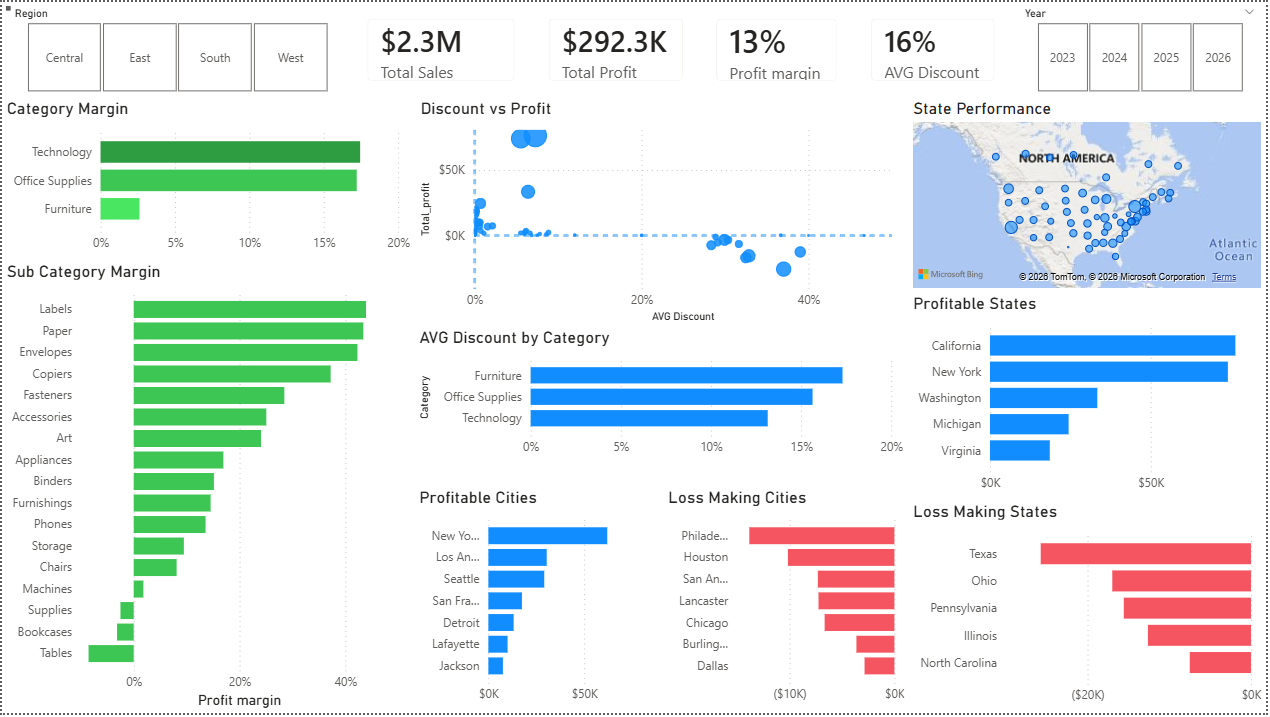

The dashboard page shown, as its layout file describes it:
{"tool":"powerbi","page":{"name":"Regional Analysis","canvas":[1280,720],"ordinal":1},"visuals":[{"type":"slicer","fields":{"Values":["sample_-_superstore.Region"]},"box":[0,0,353.5,97.2],"z":0},{"type":"slicer","fields":{"Values":["sample_-_superstore.Year"]},"box":[1022.3,0,258,97.4],"z":1000},{"type":"barChart","title":"Category Margin","fields":{"Category":["sample_-_superstore.Category"],"Y":["_Measures.Profit margin"]},"box":[0,97.2,418.3,164.8],"z":2000},{"type":"barChart","title":"Sub Category Margin","fields":{"Y":["_Measures.Profit margin"],"Category":["sample_-_superstore.Sub-Category"]},"box":[0,262.1,418.5,458.3],"z":3000},{"type":"cardVisual","fields":{"Data":["_Measures.Total_sales"]},"box":[353.5,0,183.1,97.2],"z":4000},{"type":"cardVisual","fields":{"Data":["_Measures.Total_profit"]},"box":[536.6,0,170.4,97.2],"z":5000},{"type":"map","title":"State Performance","fields":{"Category":["sample_-_superstore.State/Province"],"Size":["_Measures.Total_profit"]},"box":[918,97.4,362.3,197.6],"z":6000},{"type":"actionButton","box":[0,0,100,40],"z":7000},{"type":"cardVisual","fields":{"Data":["_Measures.Profit margin"]},"box":[706.7,0,156.4,97.4],"z":8000},{"type":"barChart","title":"Profitable States","fields":{"Category":["sample_-_superstore.State/Province"],"Y":["_Measures.Total_profit"]},"box":[918,295,362.3,210],"z":9000},{"type":"barChart","title":"Loss Making States","fields":{"Category":["sample_-_superstore.State/Province"],"Y":["_Measures.Total_profit"]},"box":[918,505,362.3,215.4],"z":10000},{"type":"scatterChart","title":"Discount vs Profit","fields":{"X":["_Measures.AVG Discount"],"Size":["_Measures.Total_sales"],"Category":["sample_-_superstore.State/Province"],"Y":["_Measures.Total_profit"]},"box":[418.5,97.4,499.5,231.9],"z":11000},{"type":"cardVisual","fields":{"Data":["_Measures.AVG Discount"]},"box":[863.1,0,159.2,97.4],"z":12000},{"type":"barChart","fields":{"Category":["sample_-_superstore.Category"],"Y":["_Measures.AVG Discount"]},"box":[418.3,329.6,500,139.4],"z":13000},{"type":"barChart","title":"Loss Making Cities","fields":{"Y":["_Measures.Total_profit"],"Category":["sample_-_superstore.City"]},"box":[669,491.5,249.3,228.2],"z":14000},{"type":"barChart","title":"Profitable Cities","fields":{"Y":["_Measures.Total_profit"],"Category":["sample_-_superstore.City"]},"box":[418.3,491.5,249.3,228.2],"z":15000}]}

Visuals, with their boxes in screenshot pixels (x1, y1, x2, y2), scaled from the page's 1280x720 canvas onto the 1270x717 screenshot:
slicer - sample_-_superstore.Region: detection(0, 0, 351, 97)
slicer - sample_-_superstore.Year: detection(1014, 0, 1269, 97)
"Category Margin" barChart: detection(0, 97, 415, 261)
"Sub Category Margin" barChart: detection(0, 261, 415, 716)
cardVisual - _Measures.Total_sales: detection(351, 0, 532, 97)
cardVisual - _Measures.Total_profit: detection(532, 0, 701, 97)
"State Performance" map: detection(911, 97, 1269, 294)
actionButton: detection(0, 0, 99, 40)
cardVisual - _Measures.Profit margin: detection(701, 0, 856, 97)
"Profitable States" barChart: detection(911, 294, 1269, 503)
"Loss Making States" barChart: detection(911, 503, 1269, 716)
"Discount vs Profit" scatterChart: detection(415, 97, 911, 328)
cardVisual - _Measures.AVG Discount: detection(856, 0, 1014, 97)
barChart - sample_-_superstore.Category x _Measures.AVG Discount: detection(415, 328, 911, 467)
"Loss Making Cities" barChart: detection(664, 489, 911, 716)
"Profitable Cities" barChart: detection(415, 489, 662, 716)
